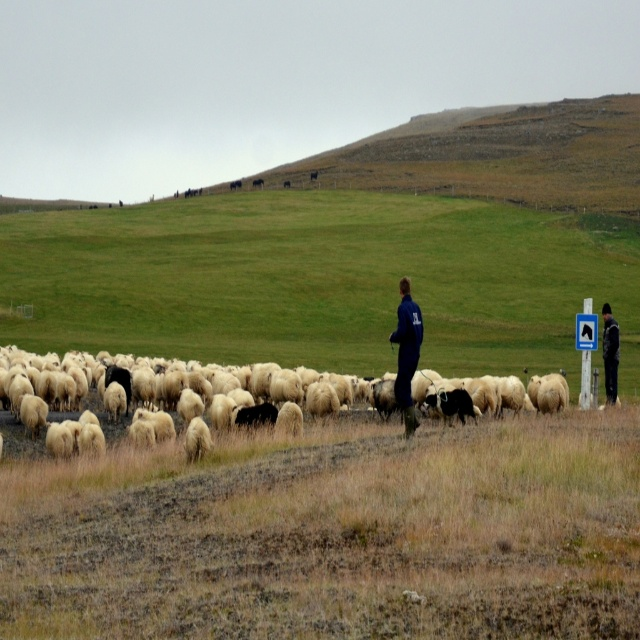Sheep: (0, 344, 622, 464)
